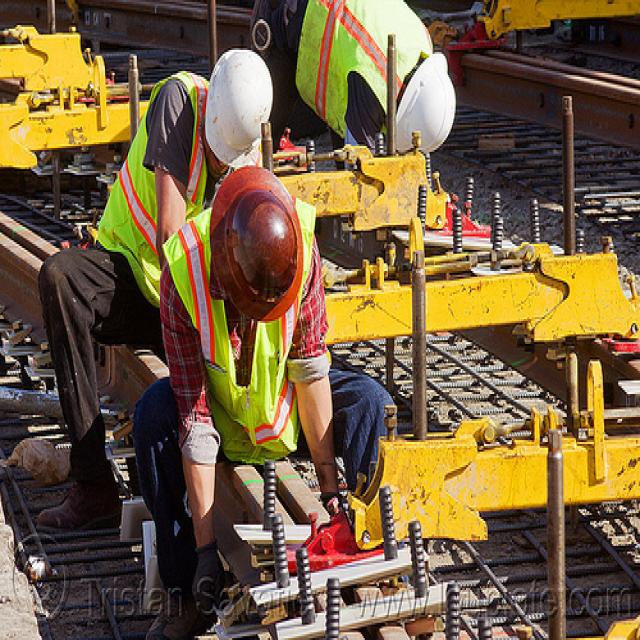Reflective-Jacket: (164, 188, 320, 469), (118, 77, 214, 307)
Safety-Helmet: (225, 186, 297, 319), (205, 42, 276, 162)
